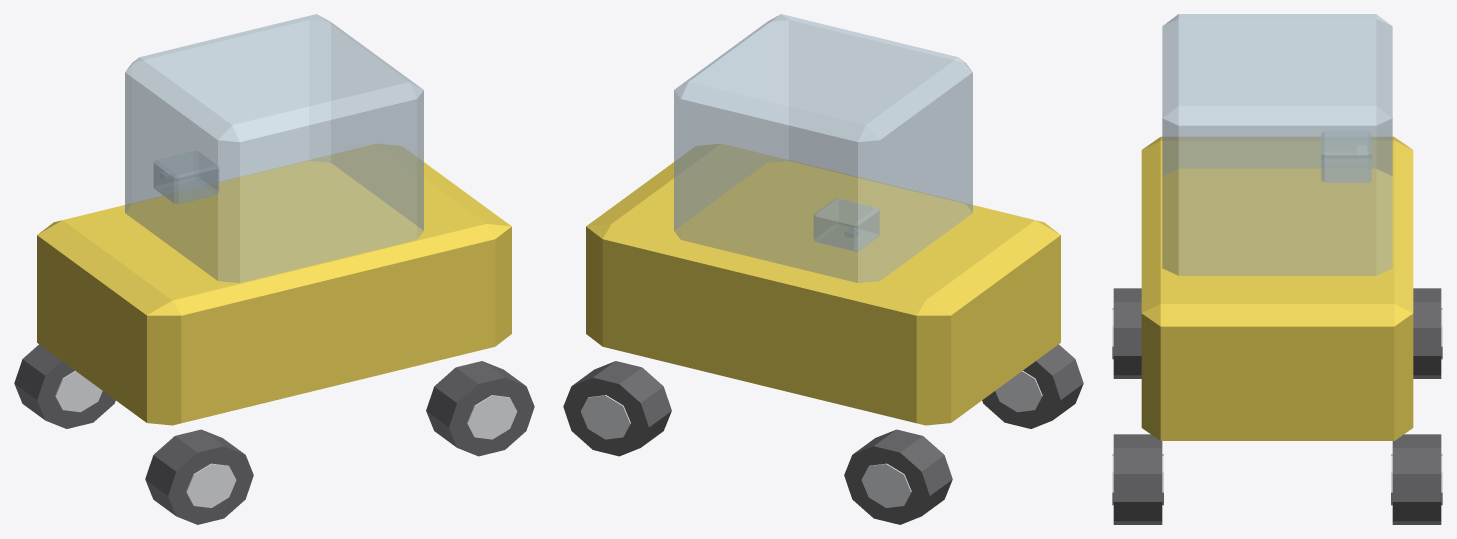
File: b07_rough_terrain_mobile_crane.glb
3 views of the same model, side by side, from view 1: azimuth 30°, elevation 25°; view 2: azimuth 150°, elevation 25°; view 3: azimuth 270°, elevation 25° (orthographic). The views are drawn at different scales.
Visible parts, largest first — view 1: b07_rough_terrain_mobile_crane; view 2: b07_rough_terrain_mobile_crane; view 3: b07_rough_terrain_mobile_crane.
Boxes of the visible parts, x1=… form: b07_rough_terrain_mobile_crane: x1=14, y1=14, x2=534, y2=524; b07_rough_terrain_mobile_crane: x1=563, y1=14, x2=1083, y2=524; b07_rough_terrain_mobile_crane: x1=1112, y1=14, x2=1442, y2=524.
Size of the model in its own units: 6 by 5.66 by 4.4.
